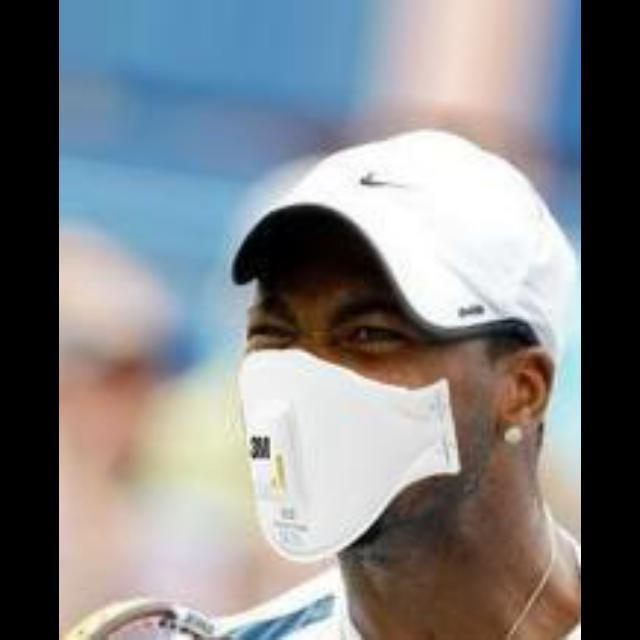suspicion: (175, 91, 577, 525)
